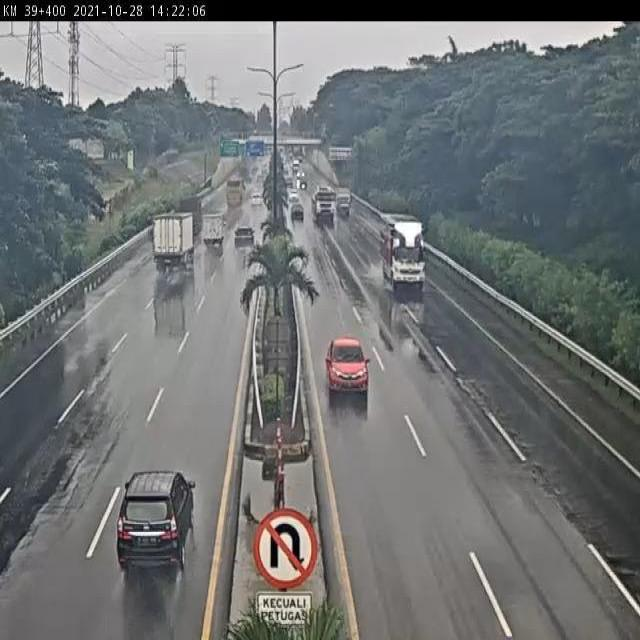car: (116, 465, 199, 571), (325, 335, 369, 388), (231, 222, 258, 255)
truck-l-: (381, 216, 426, 287)
truck-m-: (148, 211, 195, 272), (172, 199, 202, 240)
truck-s-: (198, 216, 223, 252)
